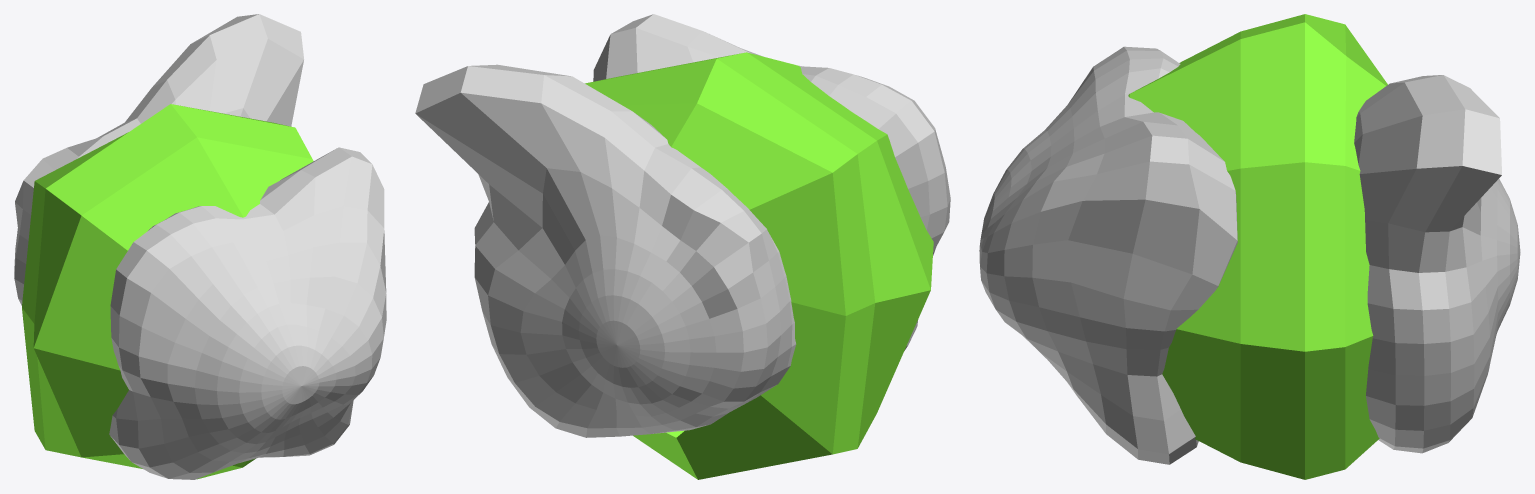
File: BushWithSnow1.fbx
3 views of the same model, side by side, from view 1: azimuth 30°, elevation 25°; view 2: azimuth 150°, elevation 25°; view 3: azimuth 270°, elevation 25° (orthographic). The views are drawn at different scales.
Visible parts, largest first — view 1: Sphere.001; view 2: Sphere.001; view 3: Sphere.001.
Boxes of the visible parts, x1=… form: Sphere.001: x1=14, y1=14, x2=386, y2=479; Sphere.001: x1=415, y1=14, x2=950, y2=479; Sphere.001: x1=979, y1=14, x2=1520, y2=479.
Bounding box in the file's own units: 359 × 358 × 386.
